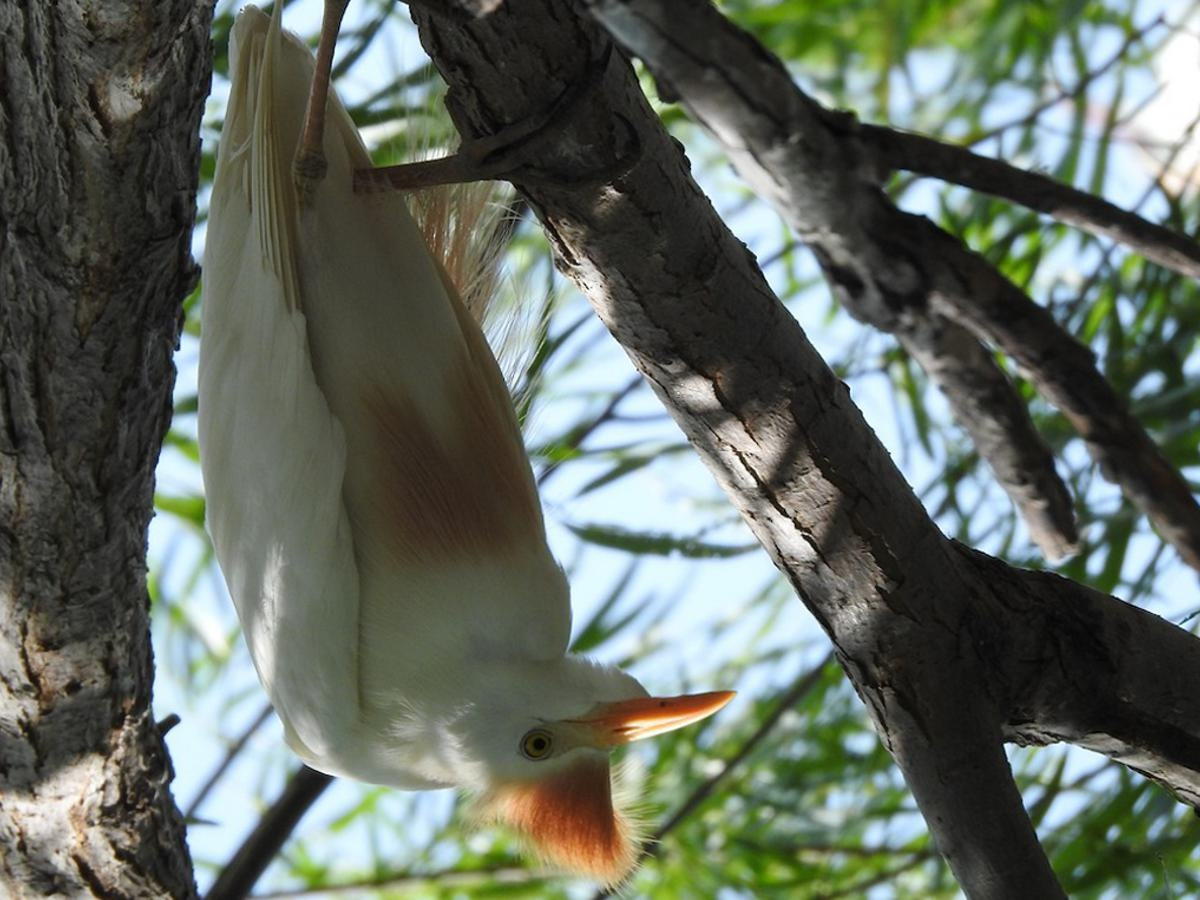egret: (170, 45, 744, 866)
